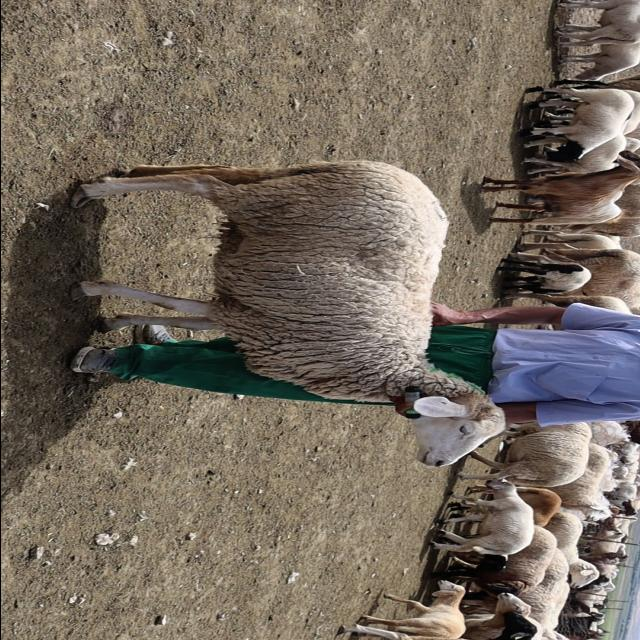Score_4: (70, 160, 505, 467)
